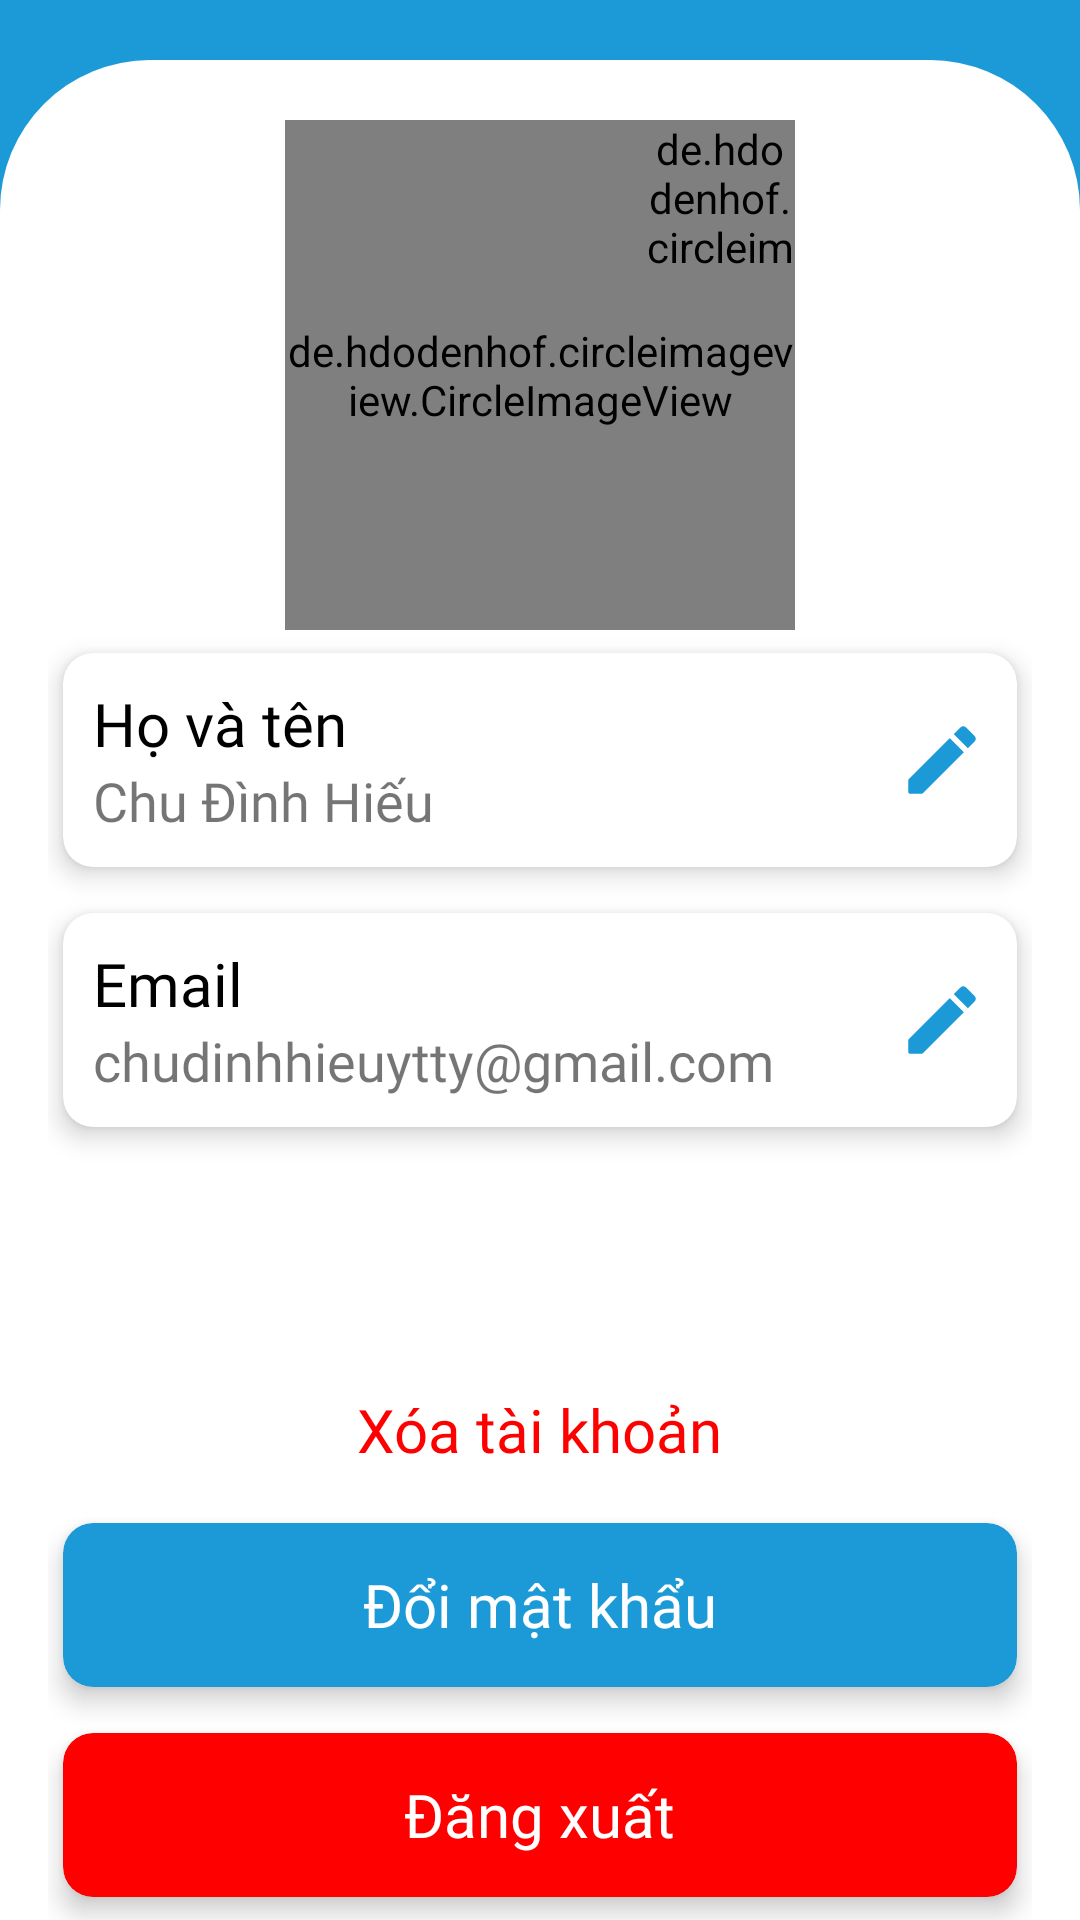

Where icons sit on this 1080 x 1920 app screen, as {"x1": x1, "y1": y1, "x2": x2, "y2": y2}:
edit: {"x1": 908, "y1": 726, "x2": 976, "y2": 794}, {"x1": 908, "y1": 986, "x2": 976, "y2": 1054}
